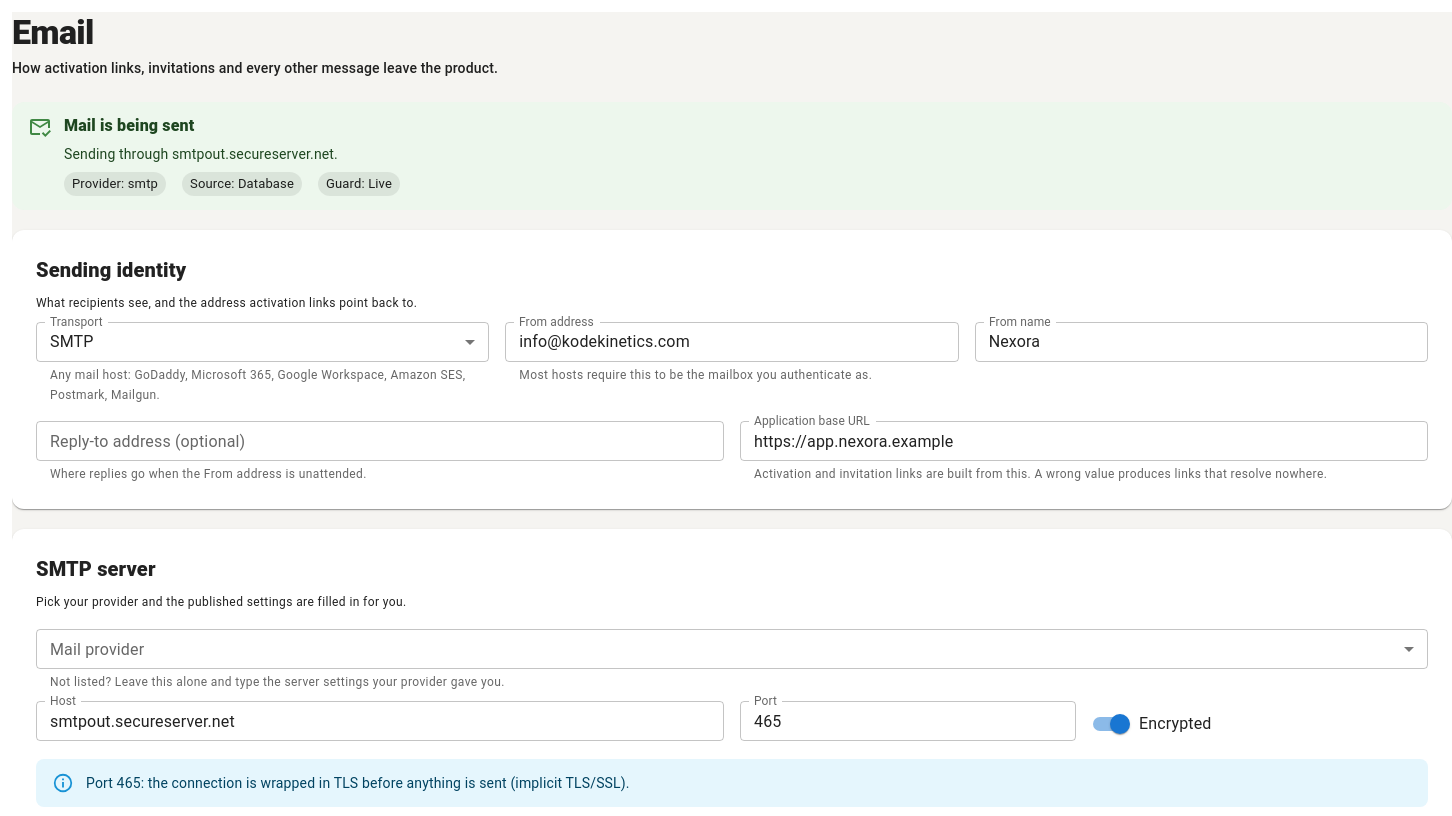
Test case: platform email settings › states the TLS mode the runtime will actually use, and follows the port
Expected: the text "wrapped in TLS before anything is sent" is shown, [86,775,630,791]
Replace the text in the number field labelled "Port" with "587" at (908, 721), box [740,701,1076,741]
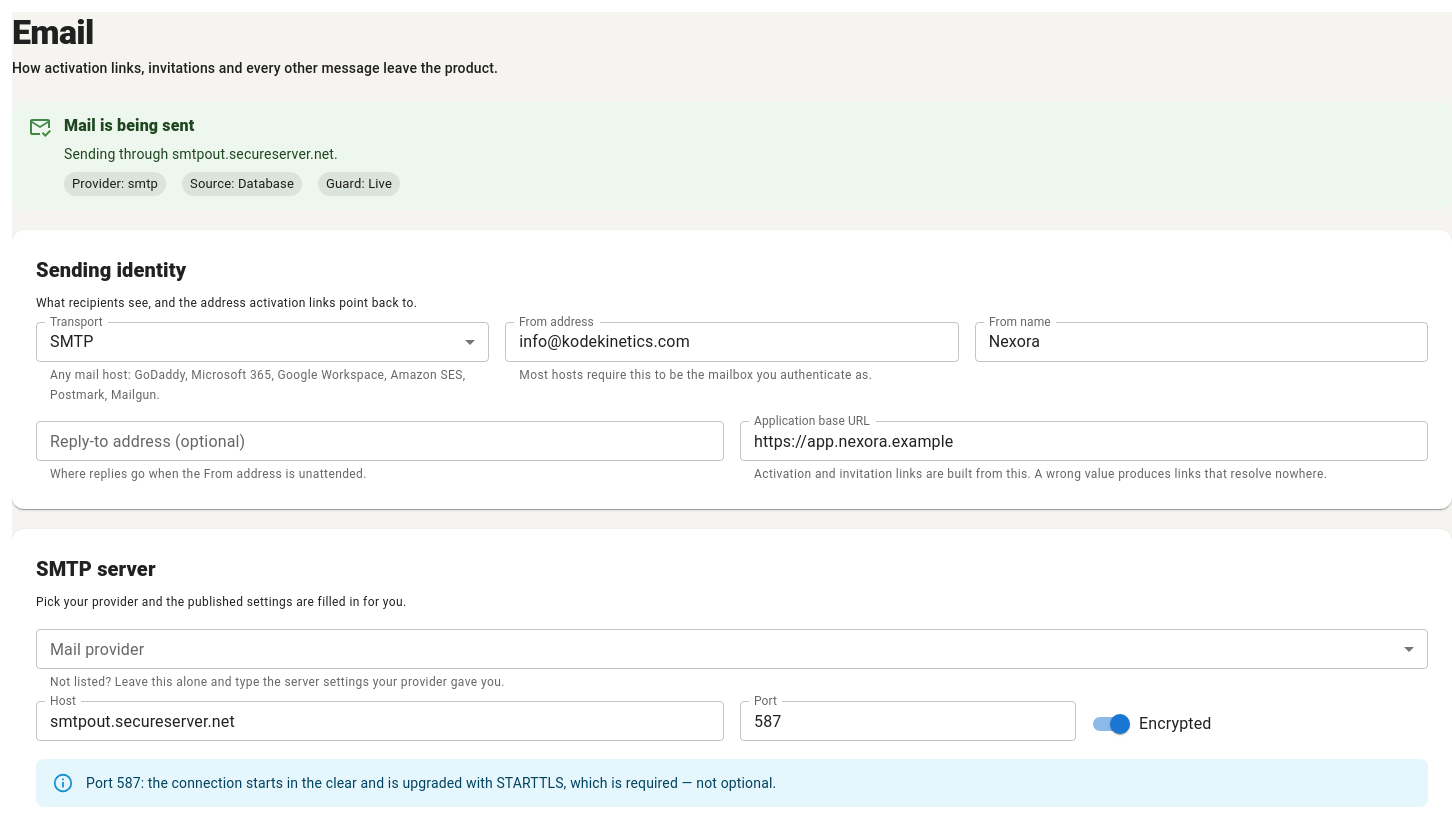
Expected: the text "upgraded with STARTTLS" is shown, [86,775,776,791]
Click the switch labelled "Encrypted" at (1152, 724), box [1093,714,1212,734]
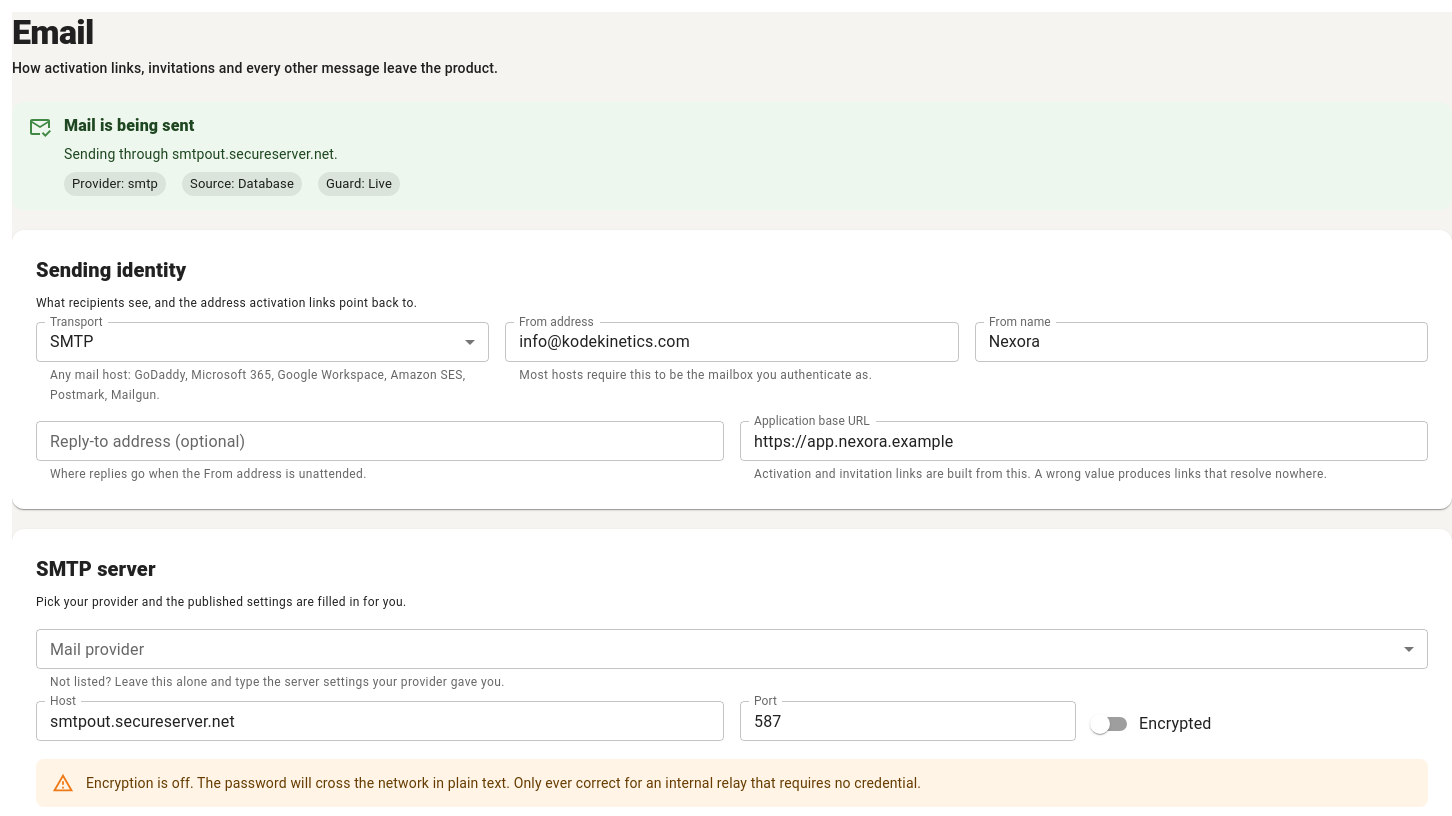
Expected: the text "plain text" is shown, [86,775,921,791]
